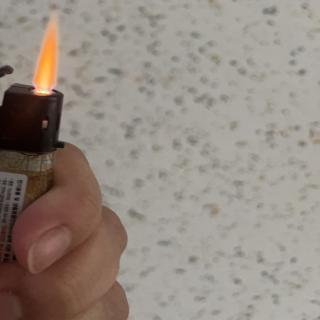fire: (29, 16, 60, 86)
